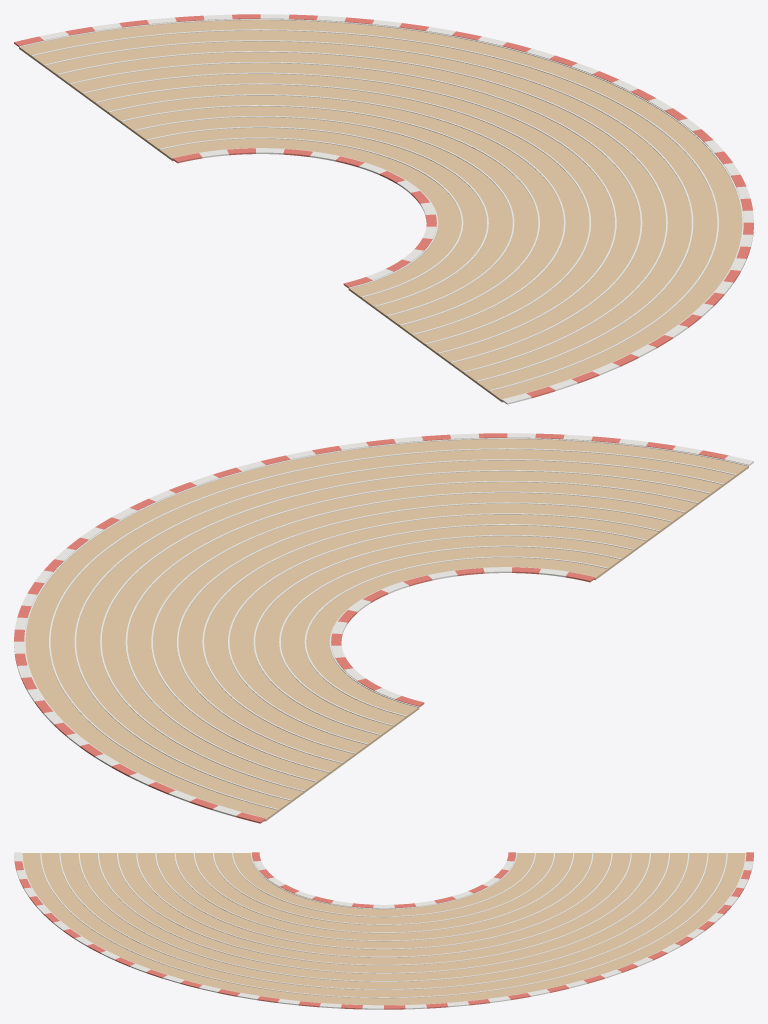
Rendered from RockinRacewayTurn.glb.
3 views of the same model, one above another, from view 1: azimuth 30°, elevation 25°; view 2: azimuth 150°, elevation 25°; view 3: azimuth 270°, elevation 25° (orthographic). The views are drawn at different scales.
Parts seen in each view (by area): view 1: Dirt, Lines, CurbRed, CurbWhite; view 2: Dirt, Lines, CurbRed, CurbWhite; view 3: Dirt, Lines, CurbRed, CurbWhite.
Part boxes in pixels (box(x1,y1,x2,y2)): Dirt: box(19, 20, 742, 402); Lines: box(18, 19, 743, 400); CurbRed: box(14, 14, 753, 398); CurbWhite: box(39, 14, 753, 404); Dirt: box(25, 439, 748, 821); Lines: box(24, 438, 749, 819); CurbRed: box(14, 433, 728, 823); CurbWhite: box(14, 433, 753, 817); Dirt: box(22, 853, 745, 1005); Lines: box(21, 852, 746, 1005); CurbRed: box(14, 852, 753, 1009); CurbWhite: box(14, 852, 753, 1009).
Size of the model in its own units: 86.8 by 0.58 by 174.
